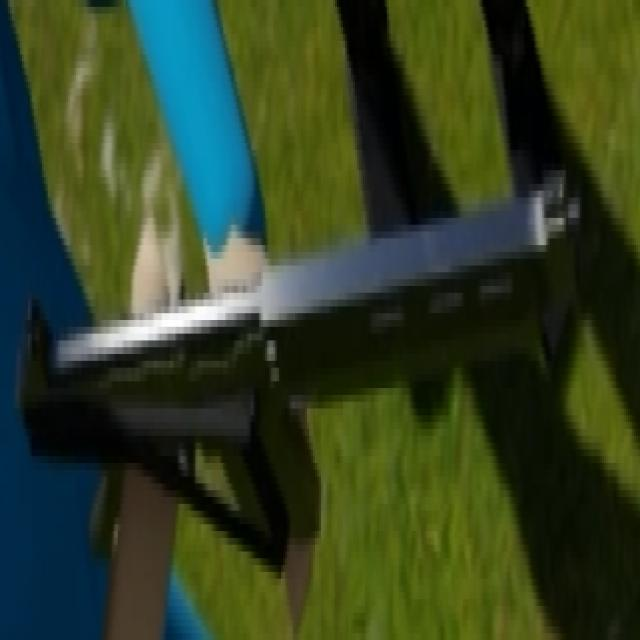Rifle: (14, 173, 595, 556)
